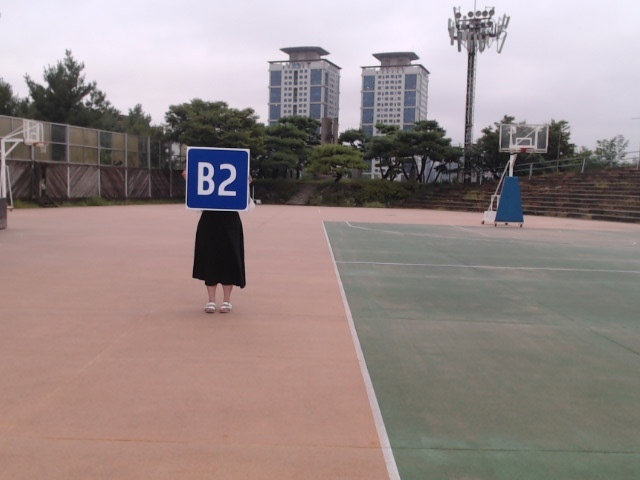delivery_b2: (186, 148, 249, 211)
